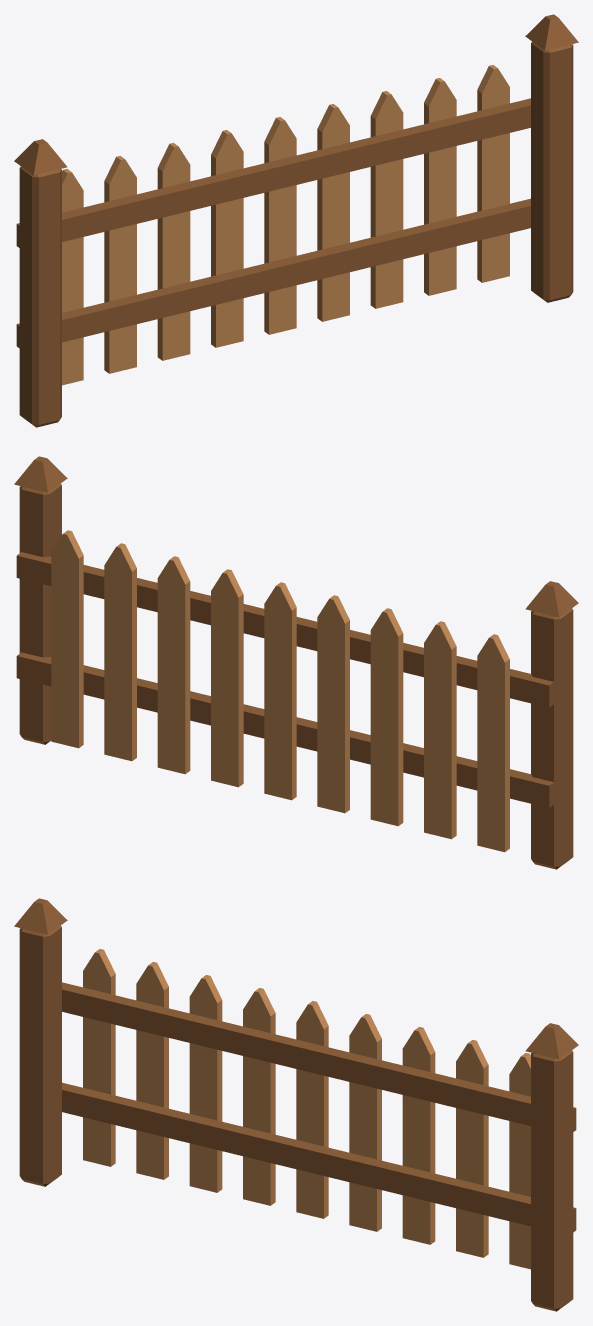
Rendered from Picket_Fence.glb.
3 renders of one model, top to bottom at view 1: azimuth 30°, elevation 25°; view 2: azimuth 150°, elevation 25°; view 3: azimuth 330°, elevation 25°, orthographic.
Parts seen in each view (by area): view 1: Picket_Fence_Mesh; view 2: Picket_Fence_Mesh; view 3: Picket_Fence_Mesh.
Boxes of the visible parts, left/top/right/bottom form: Picket_Fence_Mesh: left=14, top=14, right=578, bottom=427; Picket_Fence_Mesh: left=14, top=456, right=578, bottom=869; Picket_Fence_Mesh: left=14, top=898, right=578, bottom=1311.
Bounding box in the file's own units: 2.56 × 1.25 × 0.23.
Materials: 1 (1 with a texture image).
